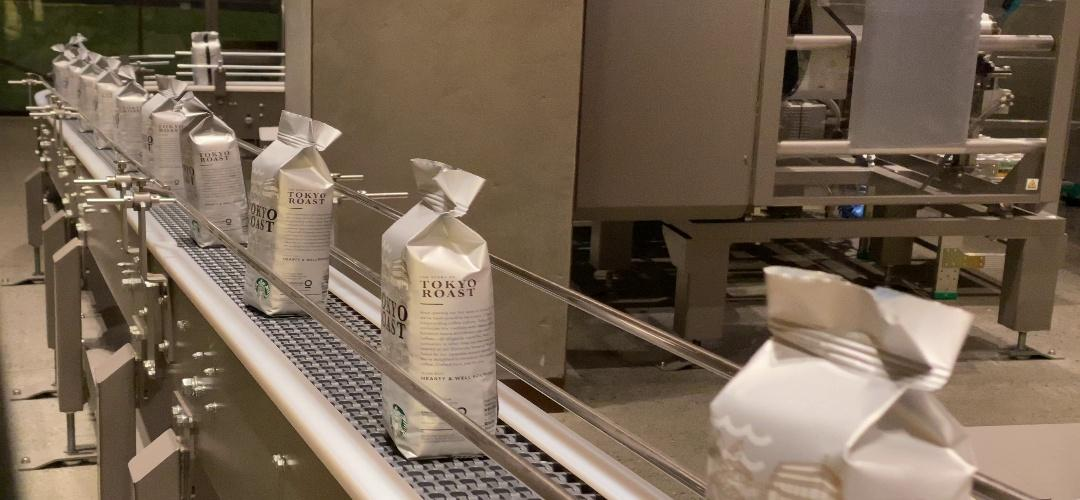conveyor: (708, 397, 976, 500), (379, 226, 496, 364), (249, 163, 334, 252), (179, 124, 246, 198)
